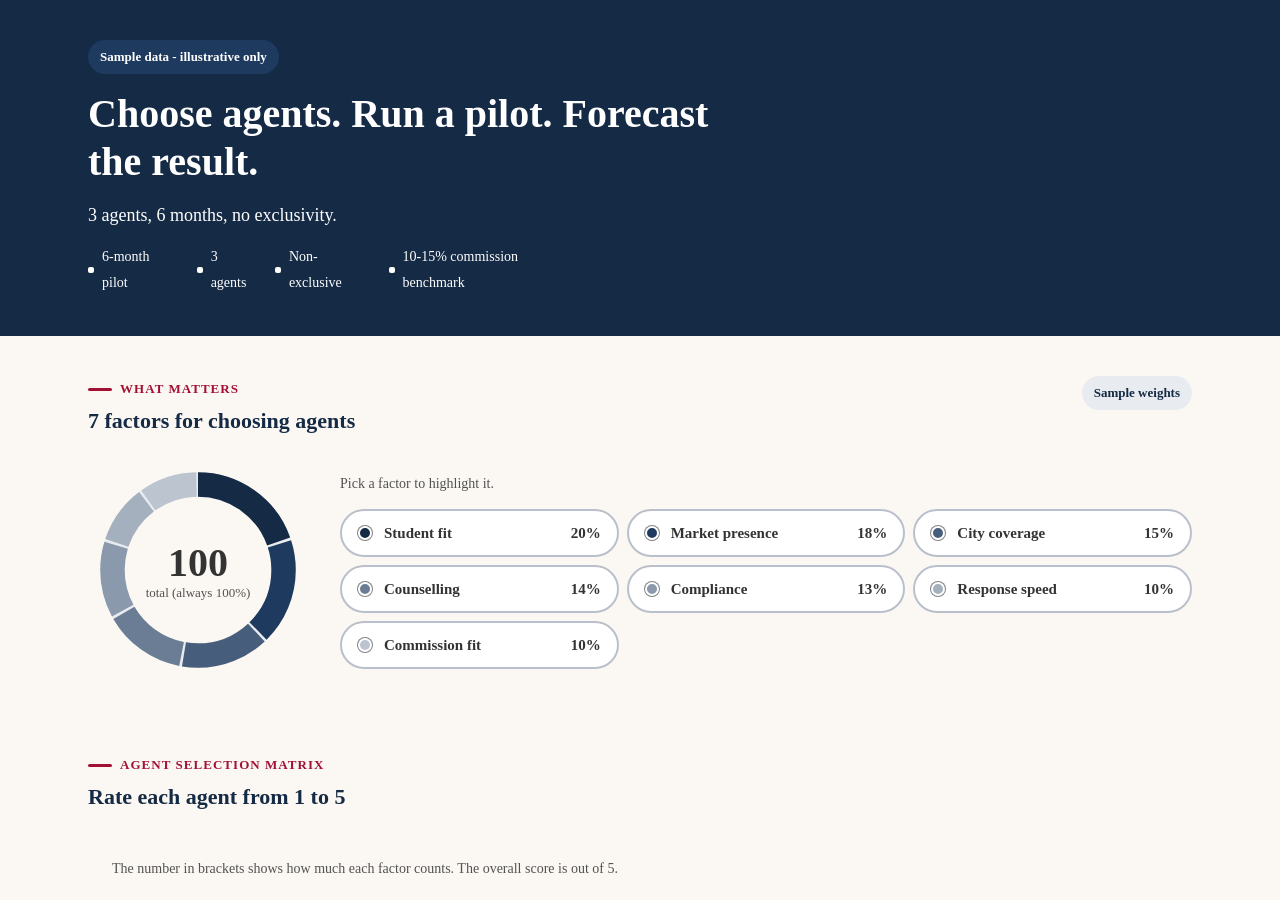
Test: AgentStrategy › factor donut › highlights a factor with aria-pressed and shows its weight in the centre
Check: the text "total (always 100%)" is shown, box [146,586,250,600]
Click the button "Counselling 14%" at (422, 588), box [340,565,619,613]
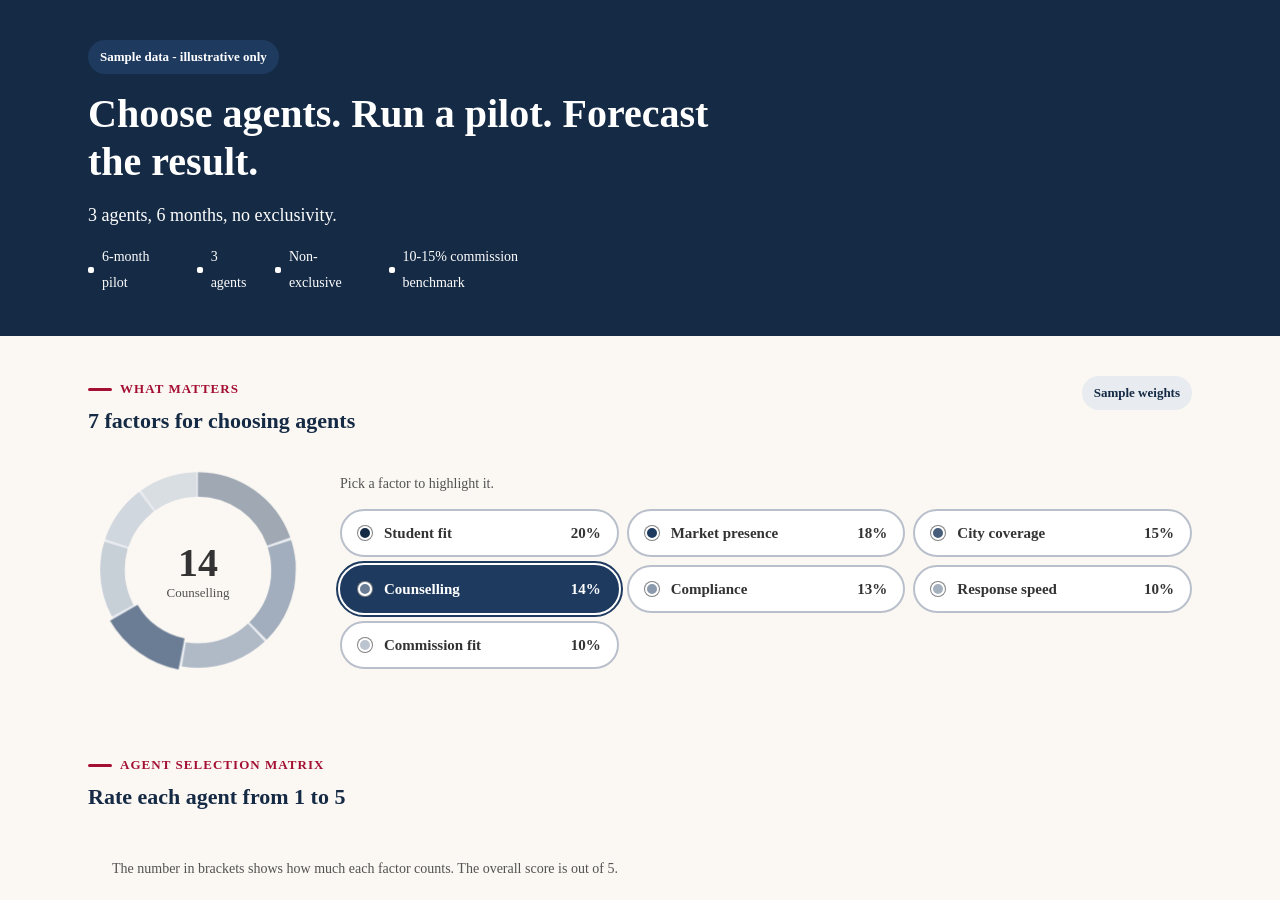
Check: the text "14" is shown, box [178,540,218,586]
Check: the text "total (always 100%)" is gone
Click the button "Counselling 14%" at (422, 588), box [340,565,619,613]
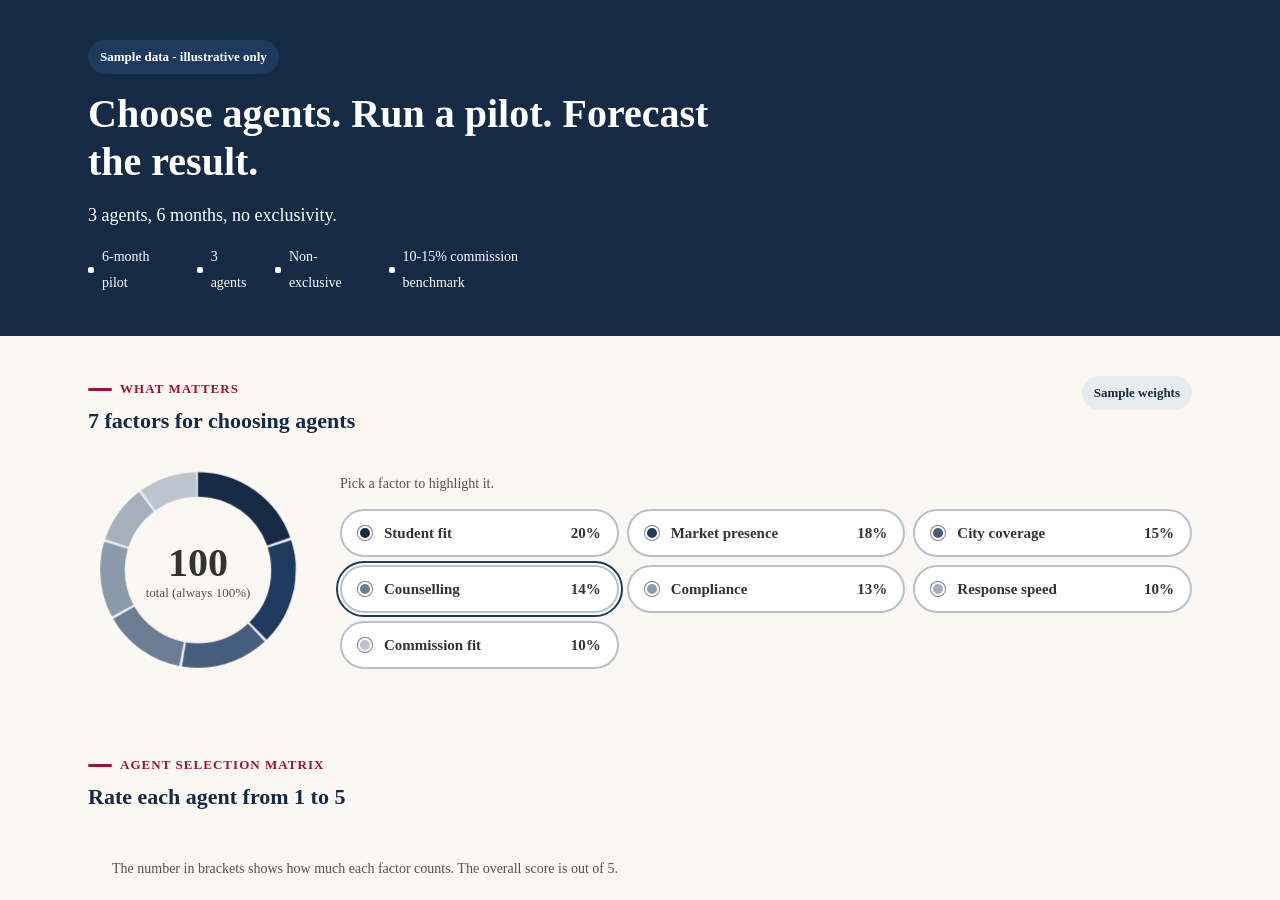
Check: the text "total (always 100%)" is shown, box [146,586,250,600]
